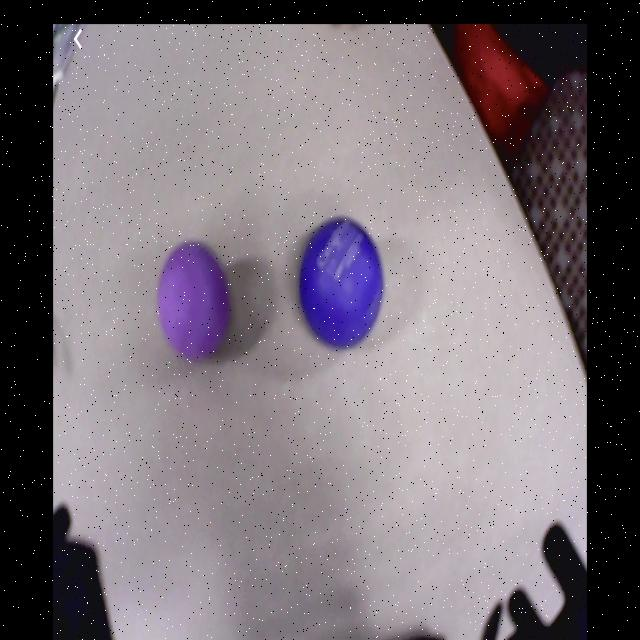ball: (301, 218, 385, 346), (158, 237, 236, 357)
